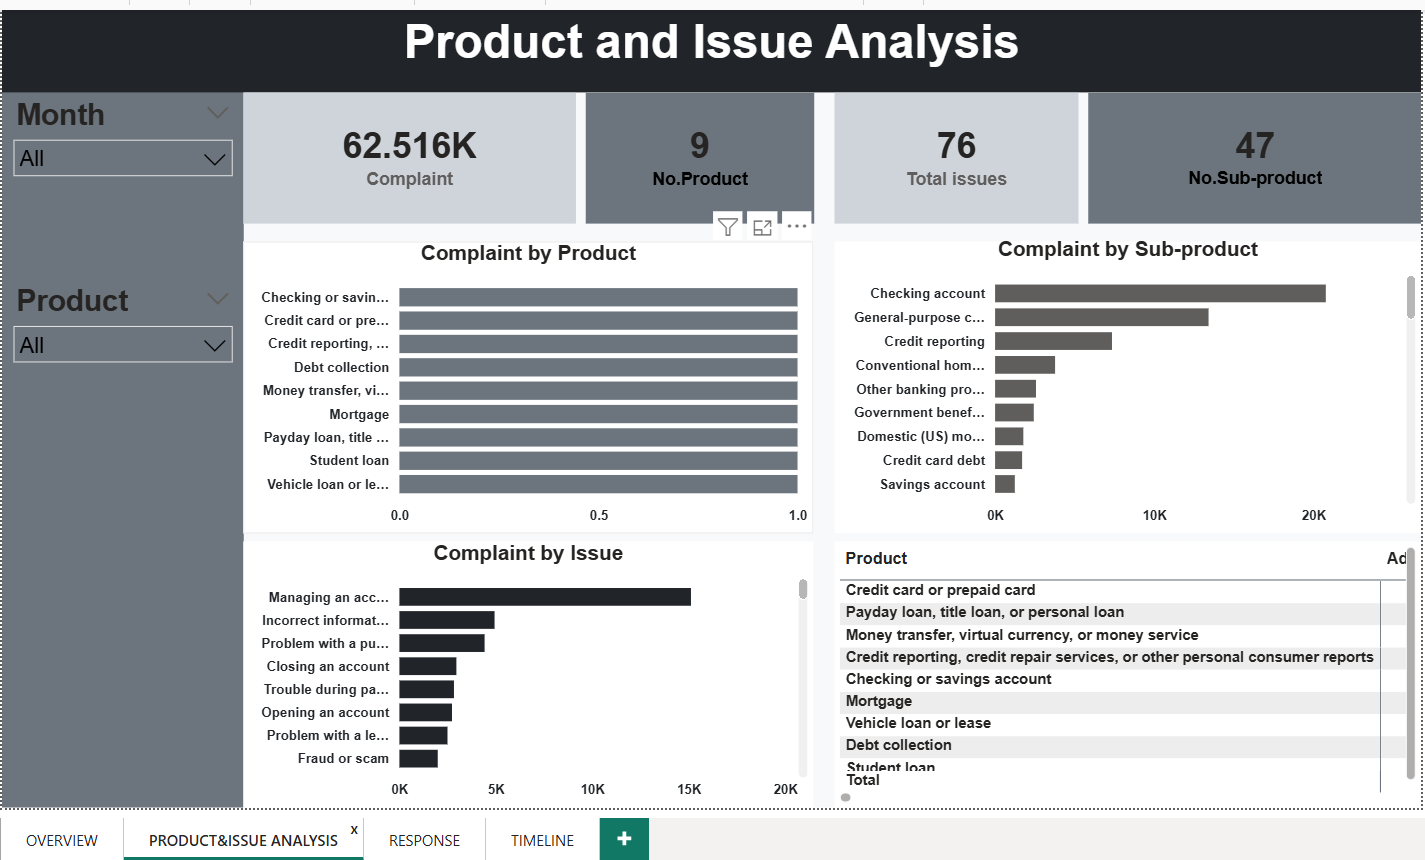

The dashboard page shown, as its layout file describes it:
{"tool":"powerbi","page":{"name":"PRODUCT&ISSUE ANALYSIS","canvas":[1280,720],"ordinal":1},"visuals":[{"type":"shape","box":[0,0,1280,720],"z":0},{"type":"shape","box":[0,0,218,720],"z":1000},{"type":"shape","box":[0,0,1280,75.6],"z":2000},{"type":"shape","box":[751,76,220,118],"z":3000},{"type":"shape","box":[980,76,300,118],"z":4000},{"type":"shape","box":[526,76,206,118],"z":5000},{"type":"shape","box":[218,210,514,263],"z":6000},{"type":"shape","box":[218,480,514,240],"z":7000},{"type":"shape","box":[751,210,529,263],"z":8000},{"type":"shape","box":[751,480,529,240],"z":9000},{"type":"shape","box":[218,76,300,118],"z":10000},{"type":"cardVisual","fields":{"Data":["CountNonNull(Data.Complaint ID)"]},"box":[218,76,300,118],"z":11000},{"type":"cardVisual","fields":{"Data":["Data.product complaint"]},"box":[526,76,206,118],"z":12000},{"type":"cardVisual","fields":{"Data":["Data.total issues"]},"box":[751,76,220,118],"z":13000},{"type":"clusteredBarChart","fields":{"Category":["Data.Product"],"Y":["Data.product complaint"]},"box":[218,210,514,263],"z":14000},{"type":"clusteredBarChart","fields":{"Category":["Data.Sub-product"],"Y":["CountNonNull(Data.Complaint ID)"]},"box":[751,206,529,267],"z":15000},{"type":"barChart","fields":{"Category":["Data.Issue"],"Y":["CountNonNull(Data.Complaint ID)"]},"box":[218,480,514,240],"z":16000},{"type":"pivotTable","fields":{"Rows":["Data.Product"],"Columns":["Data.Issue"],"Values":["Data.total issues"]},"box":[751,480,529,240],"z":17000},{"type":"textbox","box":[0,0,1280,75.6],"z":18000},{"type":"cardVisual","fields":{"Data":["Count(Data.Sub-product)"]},"box":[980.7,75.8,299.6,117.4],"z":19000},{"type":"slicer","fields":{"Values":["Data.Date submitted.Variation.Date Hierarchy.Month"]},"box":[0,75.8,217.7,134.5],"z":20000},{"type":"slicer","fields":{"Values":["Data.Product"]},"box":[0,243.3,217.7,165.1],"z":21000}]}

Visuals, with their boxes on the page's 1280x720 design canvas (x1, y1, x2, y2). These are canvas units, not pixel positions in the 1425x860 screenshot, which may show the page scaled, cropped or inside an application window:
shape: BBox(0, 0, 1280, 720)
shape: BBox(0, 0, 218, 720)
shape: BBox(0, 0, 1280, 76)
shape: BBox(751, 76, 971, 194)
shape: BBox(980, 76, 1280, 194)
shape: BBox(526, 76, 732, 194)
shape: BBox(218, 210, 732, 473)
shape: BBox(218, 480, 732, 720)
shape: BBox(751, 210, 1280, 473)
shape: BBox(751, 480, 1280, 720)
shape: BBox(218, 76, 518, 194)
cardVisual - CountNonNull(Data.Complaint ID): BBox(218, 76, 518, 194)
cardVisual - Data.product complaint: BBox(526, 76, 732, 194)
cardVisual - Data.total issues: BBox(751, 76, 971, 194)
clusteredBarChart - Data.Product x Data.product complaint: BBox(218, 210, 732, 473)
clusteredBarChart - Data.Sub-product x CountNonNull(Data.Complaint ID): BBox(751, 206, 1280, 473)
barChart - Data.Issue x CountNonNull(Data.Complaint ID): BBox(218, 480, 732, 720)
pivotTable - Data.Product x Data.Issue: BBox(751, 480, 1280, 720)
textbox: BBox(0, 0, 1280, 76)
cardVisual - Count(Data.Sub-product): BBox(981, 76, 1280, 193)
slicer - Data.Date submitted.Variation.Date Hierarchy.Month: BBox(0, 76, 218, 210)
slicer - Data.Product: BBox(0, 243, 218, 408)
